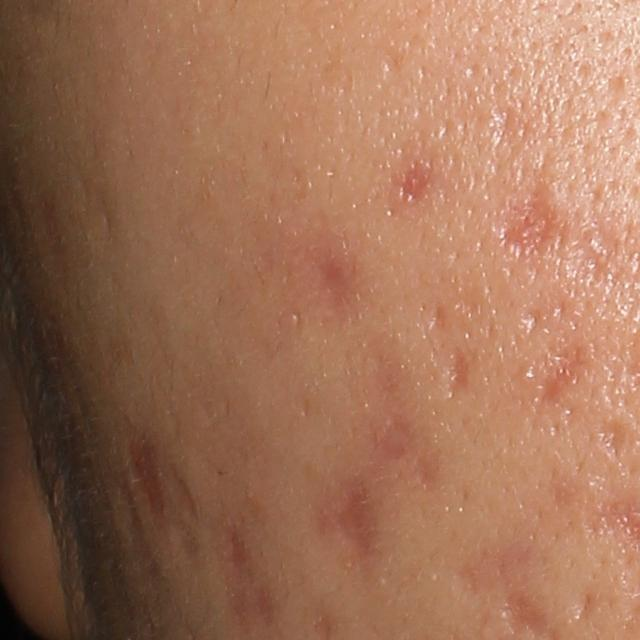atrophic_scar: (496, 154, 558, 261), (381, 400, 441, 496), (572, 213, 632, 291), (321, 480, 381, 558), (525, 333, 589, 402), (484, 80, 522, 169), (212, 527, 253, 597), (131, 424, 157, 528), (172, 440, 198, 531), (394, 158, 431, 209), (594, 419, 630, 464), (441, 347, 469, 401), (567, 591, 594, 622)
